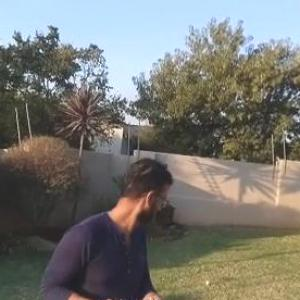follow: (35, 151, 177, 299)
